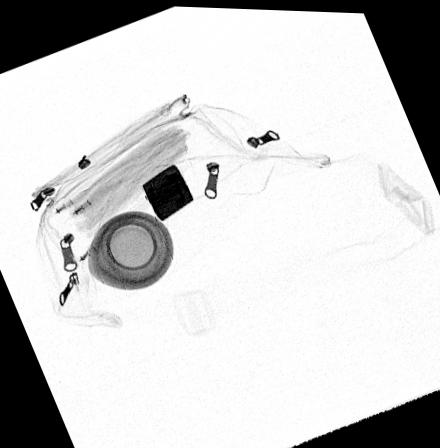Lighter: (142, 162, 195, 221)
